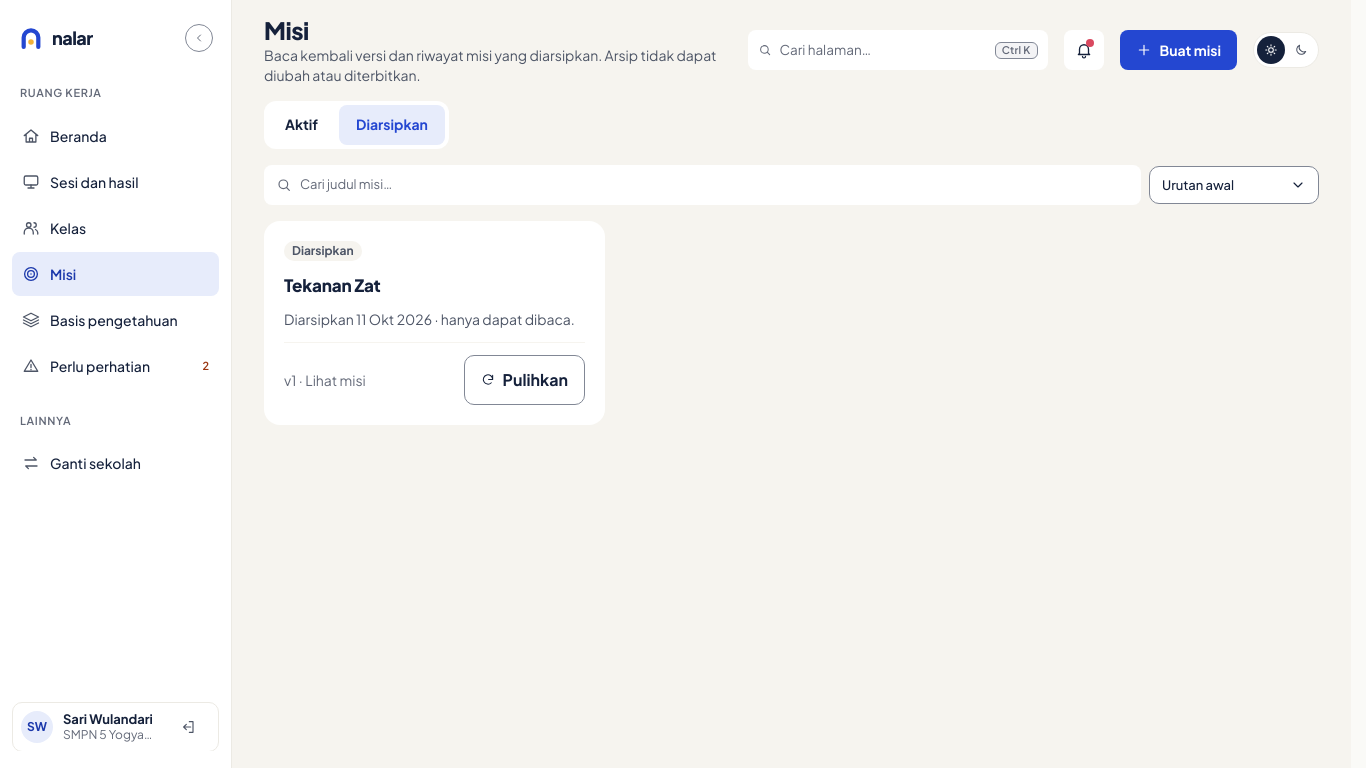
Scenario: signed-in teacher pages › restores an archived mission from the library and says so
Click the button "Pulihkan" at coordinates (524, 380), box [464,355,585,405]
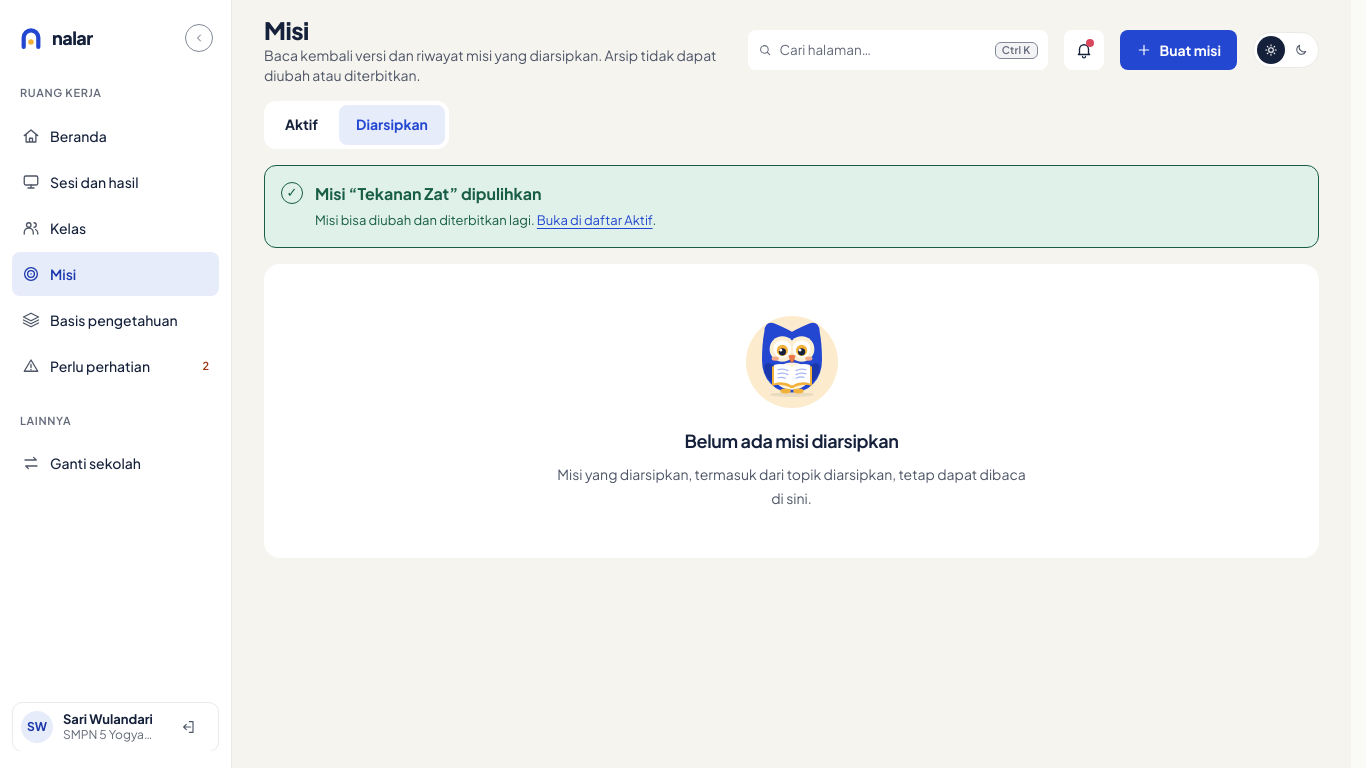
Expected: the text "Misi “Tekanan Zat” dipulihkan" is shown, [315,183,542,204]
